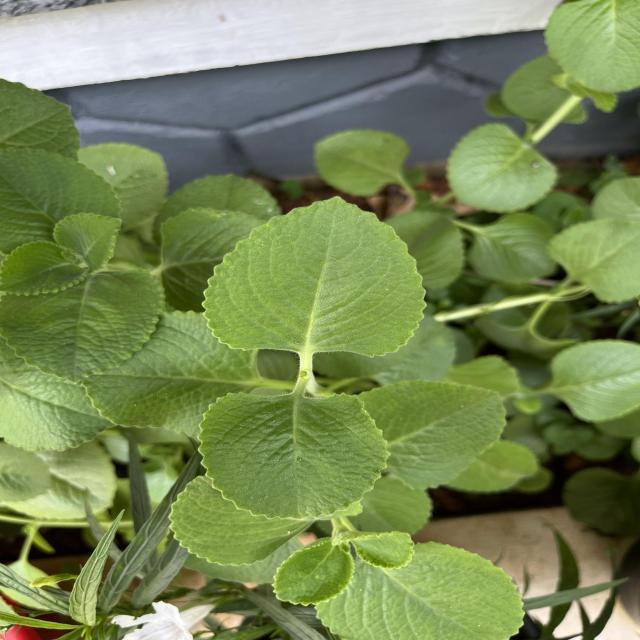Plectranthus barbatus: (200, 192, 430, 360), (198, 389, 392, 522), (308, 539, 526, 640), (0, 264, 167, 387), (355, 378, 508, 490), (442, 122, 560, 216), (547, 216, 640, 305), (549, 337, 640, 422), (270, 540, 358, 608), (1, 239, 92, 297)
